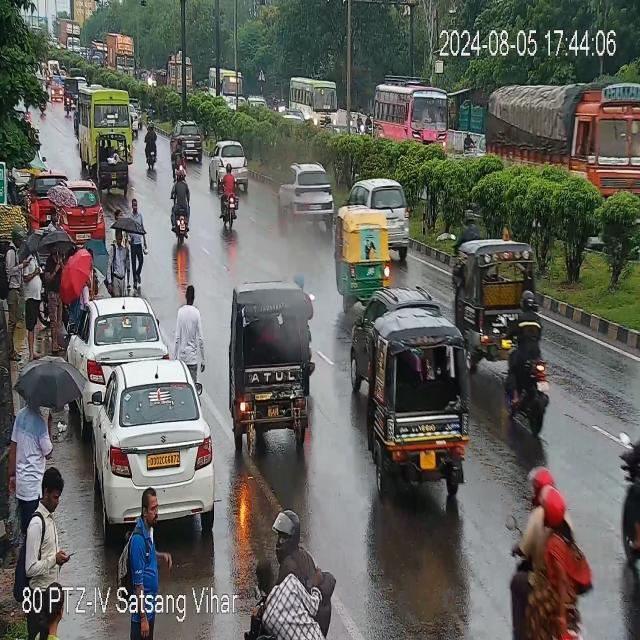2-wheelers: (512, 472, 581, 640), (254, 508, 336, 639), (506, 301, 550, 430), (170, 171, 190, 247), (220, 166, 238, 228), (143, 128, 156, 169), (62, 85, 73, 115)
auto: (377, 324, 472, 503), (231, 281, 317, 456), (454, 236, 538, 348), (336, 206, 386, 298), (99, 135, 131, 192), (50, 74, 64, 100), (66, 80, 77, 97)
bus: (488, 82, 639, 180), (374, 79, 448, 147), (78, 90, 130, 164), (290, 78, 338, 128), (207, 67, 244, 105)
car: (89, 359, 216, 531), (67, 294, 170, 386), (48, 182, 106, 242), (354, 295, 378, 407), (288, 164, 334, 214), (386, 180, 411, 254), (28, 170, 66, 217), (207, 140, 247, 183), (173, 119, 204, 162), (128, 104, 140, 134), (46, 58, 60, 74)
pedestrian: (20, 467, 73, 638), (122, 489, 170, 638), (8, 401, 55, 542), (2, 227, 24, 365), (174, 288, 207, 376), (22, 242, 42, 361), (45, 238, 65, 356), (107, 228, 131, 300), (127, 202, 146, 289)
truck: (106, 34, 136, 77), (155, 55, 192, 89), (57, 23, 81, 53)
